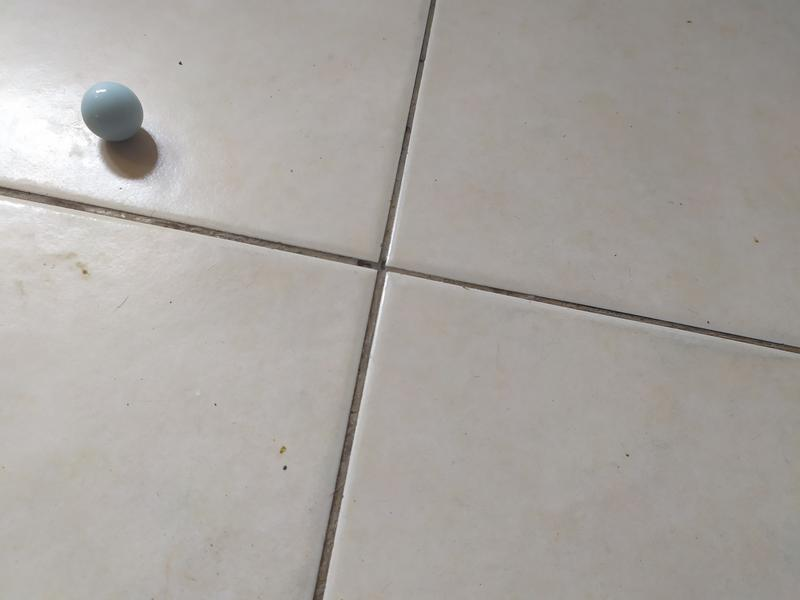Warning: (78, 79, 146, 144)
